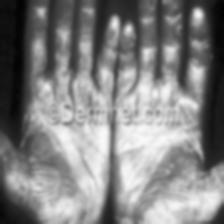Non-Cancerous Skin Condition: (32, 0, 116, 82), (124, 132, 201, 216), (146, 0, 216, 92), (30, 132, 108, 208)
